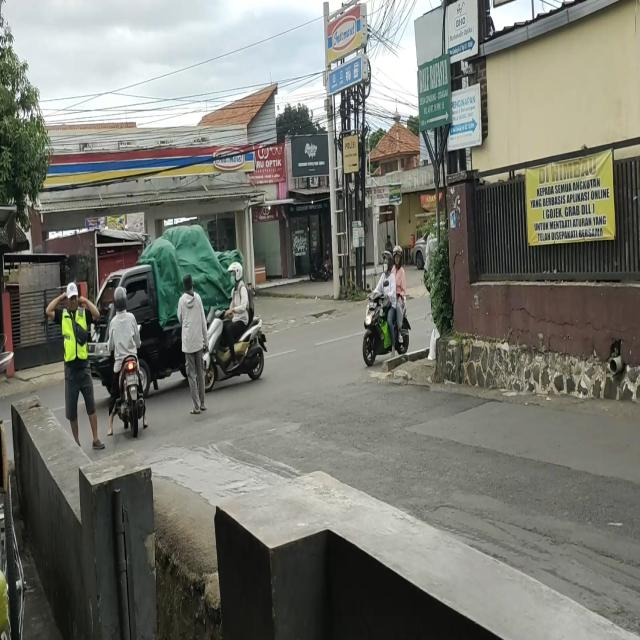helmet: (227, 262, 243, 286), (115, 284, 126, 310), (394, 246, 404, 271), (382, 254, 393, 275)
